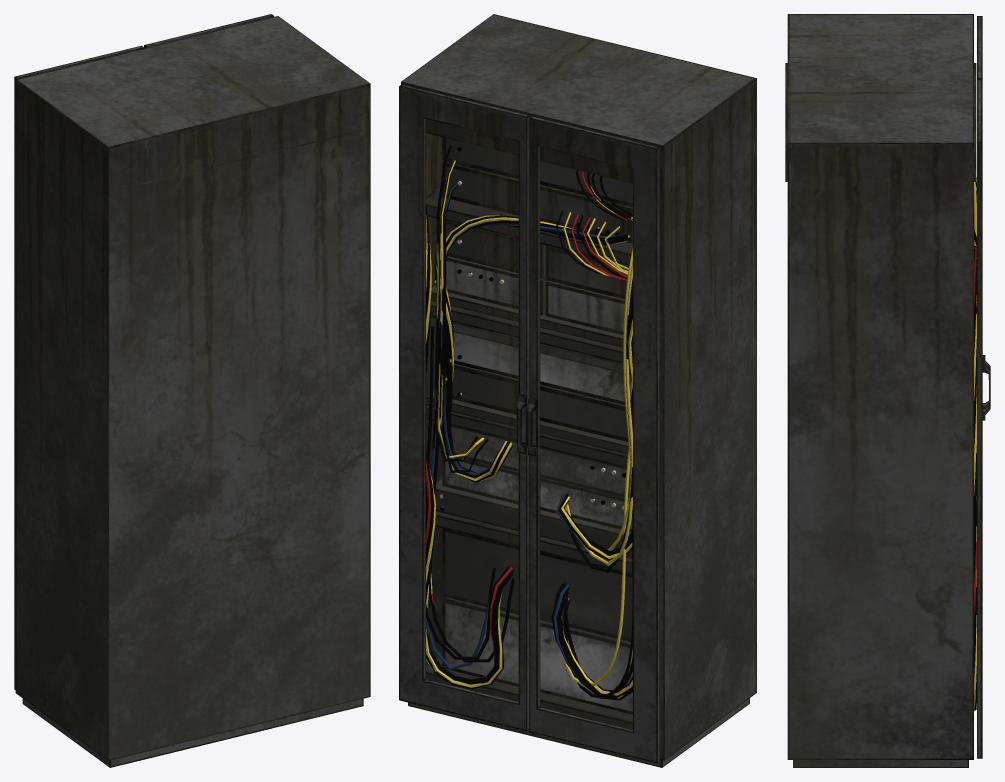
File: Section 3 just server.fbx
3 views of the same model, side by side, from view 1: azimuth 30°, elevation 25°; view 2: azimuth 150°, elevation 25°; view 3: azimuth 270°, elevation 25° (orthographic).
Visible parts, largest first — view 1: ServerRackOnlyShelves; view 2: ServerRackOnlyShelves, ServerRackOnlyCables; view 3: ServerRackOnlyShelves, ServerRackOnlyCables.
Part boxes in pixels (left/top/right/bottom): ServerRackOnlyShelves: left=14, top=14, right=370, bottom=767; ServerRackOnlyShelves: left=399, top=14, right=756, bottom=767; ServerRackOnlyCables: left=426, top=145, right=632, bottom=700; ServerRackOnlyShelves: left=785, top=14, right=990, bottom=767; ServerRackOnlyCables: left=974, top=177, right=976, bottom=710.
Size of the model in its own units: 89.13 by 202 by 59.97.
